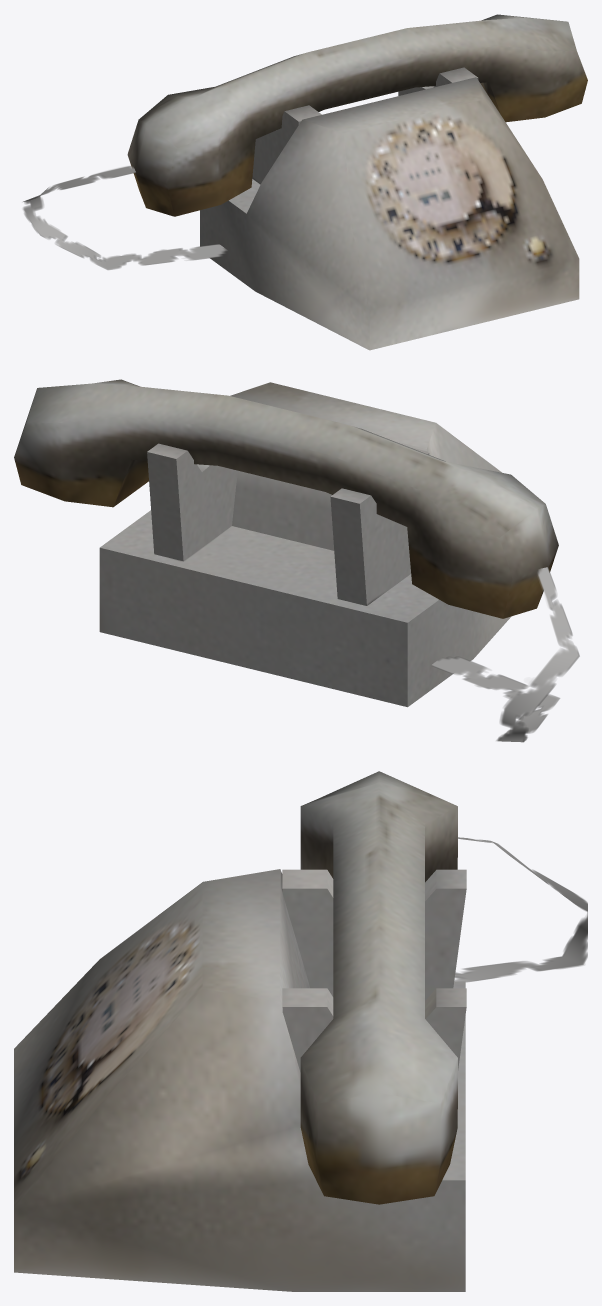
File: Phone-col.glb
3 renders of one model, top to bottom at view 1: azimuth 30°, elevation 25°; view 2: azimuth 150°, elevation 25°; view 3: azimuth 270°, elevation 25°, orthographic. The views are drawn at different scales.
Parts seen in each view (by area): view 1: Phone-col; view 2: Phone-col; view 3: Phone-col.
Part boxes in pixels (left/top/right/bottom): Phone-col: left=23, top=14, right=587, bottom=350; Phone-col: left=14, top=379, right=579, bottom=742; Phone-col: left=14, top=771, right=587, bottom=1291.
Size of the model in its own units: 1.1 by 0.41 by 0.6837.
Materials: 1 (1 with a texture image).
